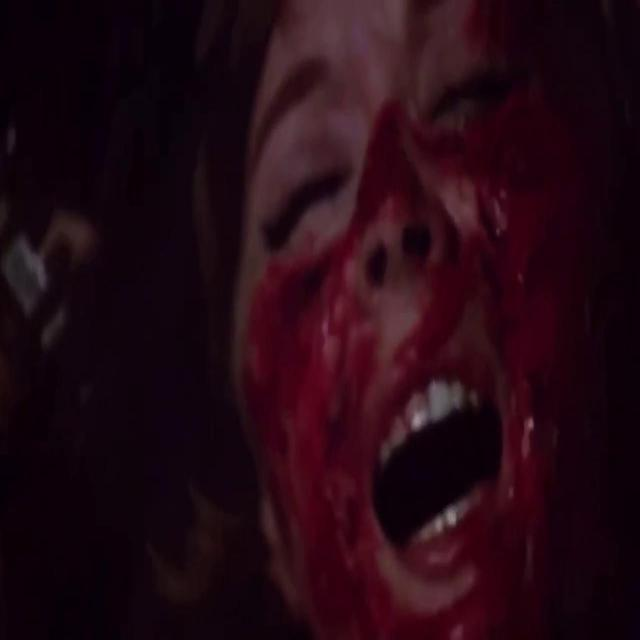flood: (240, 115, 593, 640)
